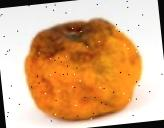Orange Rotten: (17, 4, 150, 128)
